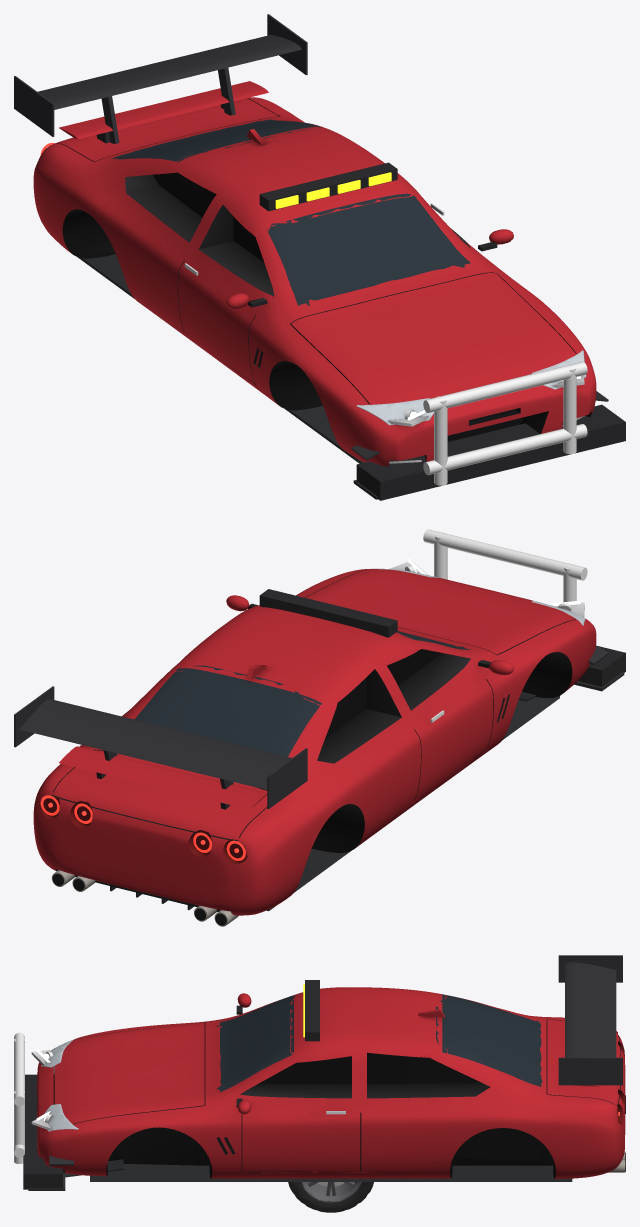
Rendered from car.glb.
3 renders of one model, top to bottom at view 1: azimuth 30°, elevation 25°; view 2: azimuth 150°, elevation 25°; view 3: azimuth 270°, elevation 25°, orthographic. The views are drawn at different scales.
Visible parts, largest first — view 1: Body, Body_LOD, BullBar, Wing_GT, Wing_Std, LightBar; view 2: Body, Body_LOD, Wing_GT, Wing_Std, BullBar, LightBar; view 3: Body, Body_LOD, Wing_GT, BullBar, Wheel_LOD, Wheel, LightBar.
Boxes of the visible parts, x1,y1,x2,y2 form: Body: [33, 97, 596, 466]; Body_LOD: [33, 97, 596, 466]; BullBar: [356, 361, 625, 500]; Wing_GT: [14, 14, 307, 143]; Wing_Std: [59, 81, 268, 143]; LightBar: [259, 162, 397, 211]; Body: [33, 559, 596, 926]; Body_LOD: [33, 559, 596, 924]; Wing_GT: [14, 686, 307, 809]; Wing_Std: [59, 746, 267, 809]; BullBar: [423, 529, 625, 686]; LightBar: [259, 589, 397, 637]; Body: [31, 987, 625, 1181]; Body_LOD: [32, 987, 625, 1181]; Wing_GT: [558, 955, 622, 1085]; BullBar: [14, 1032, 62, 1189]; Wheel_LOD: [288, 1182, 373, 1212]; Wheel: [288, 1182, 373, 1212]; LightBar: [303, 980, 319, 1041].
Bounding box in the file's own units: 2.21 × 1.79 × 4.95.
